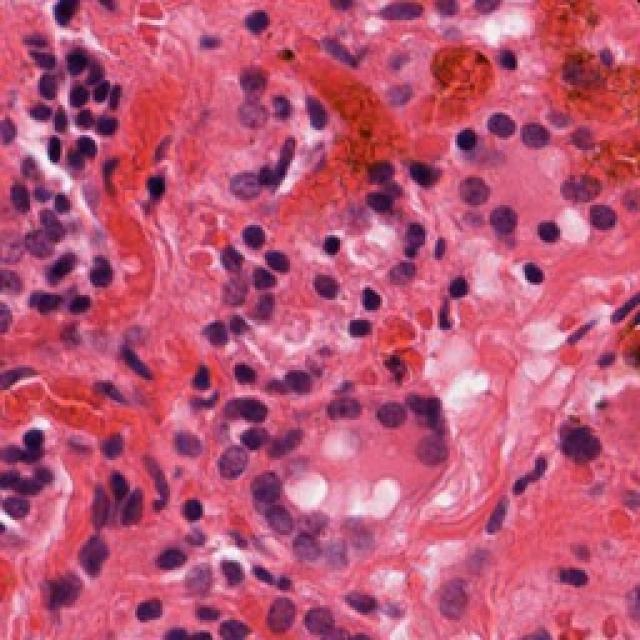normal: (236, 452, 292, 515), (320, 380, 373, 445), (437, 168, 498, 220), (257, 581, 309, 640), (507, 110, 560, 165), (210, 430, 257, 492), (398, 425, 452, 478), (548, 173, 607, 220), (225, 83, 273, 138), (289, 83, 339, 135), (285, 525, 332, 578), (292, 595, 345, 640), (220, 163, 272, 207), (367, 387, 410, 440), (477, 203, 527, 247), (483, 103, 520, 147), (265, 497, 302, 540)
